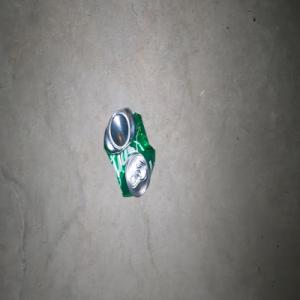SodaCan: (103, 107, 155, 197)
